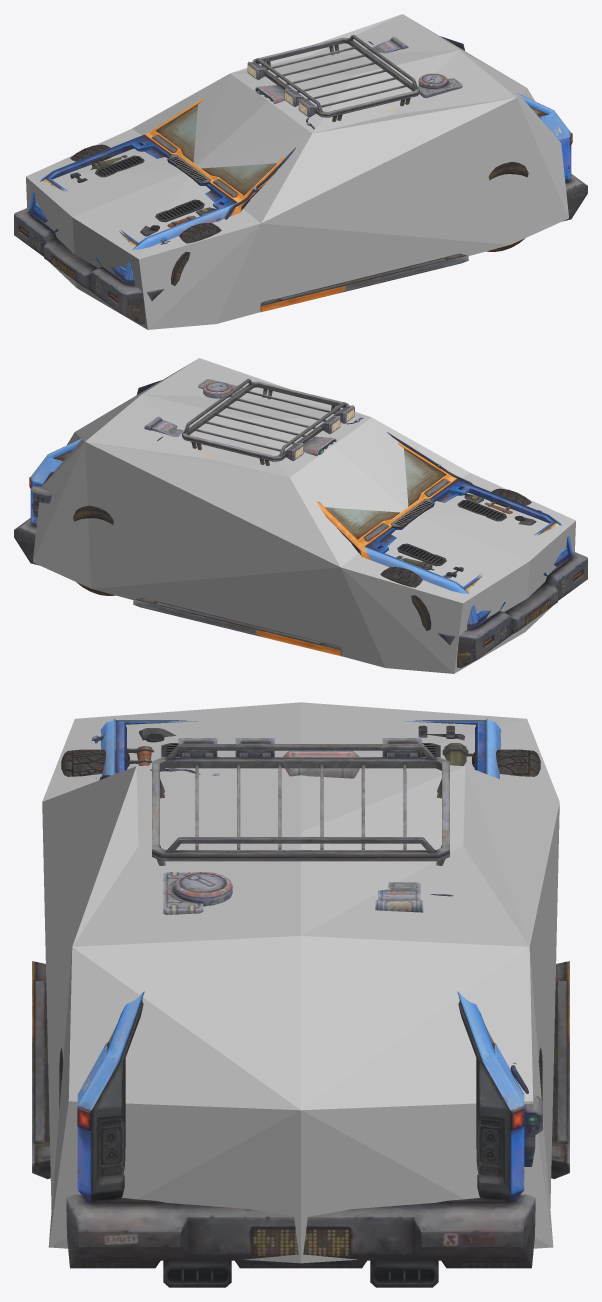
File: normadic.glb
The picture shows the model from 3 angles, top to bottom: view 1: azimuth 30°, elevation 25°; view 2: azimuth 150°, elevation 25°; view 3: azimuth 270°, elevation 25°; orthographic projection. The views are drawn at different scales.
Parts seen in each view (by area): view 1: phy-body-vehicle-polyhedron-42kg-furnariscafatigt-main, chassis, wheel002, wheel; view 2: phy-body-vehicle-polyhedron-42kg-furnariscafatigt-main, chassis, wheel003, wheel004; view 3: phy-body-vehicle-polyhedron-42kg-furnariscafatigt-main, chassis, wheel002, wheel003.
Part boxes in pixels (left/top/right/bottom): phy-body-vehicle-polyhedron-42kg-furnariscafatigt-main: left=26, top=14, right=568, bottom=329; chassis: left=14, top=34, right=587, bottom=324; wheel002: left=171, top=223, right=221, bottom=285; wheel: left=486, top=162, right=528, bottom=251; phy-body-vehicle-polyhedron-42kg-furnariscafatigt-main: left=33, top=358, right=575, bottom=673; chassis: left=14, top=378, right=587, bottom=668; wheel003: left=380, top=567, right=431, bottom=630; wheel004: left=73, top=505, right=115, bottom=595; phy-body-vehicle-polyhedron-42kg-furnariscafatigt-main: left=42, top=702, right=559, bottom=1263; chassis: left=32, top=718, right=569, bottom=1287; wheel002: left=61, top=749, right=129, bottom=776; wheel003: left=472, top=749, right=540, bottom=776.
Bounding box in the file's own units: 4.33 × 1.52 × 2.15.
Materials: 11 (10 with a texture image).
